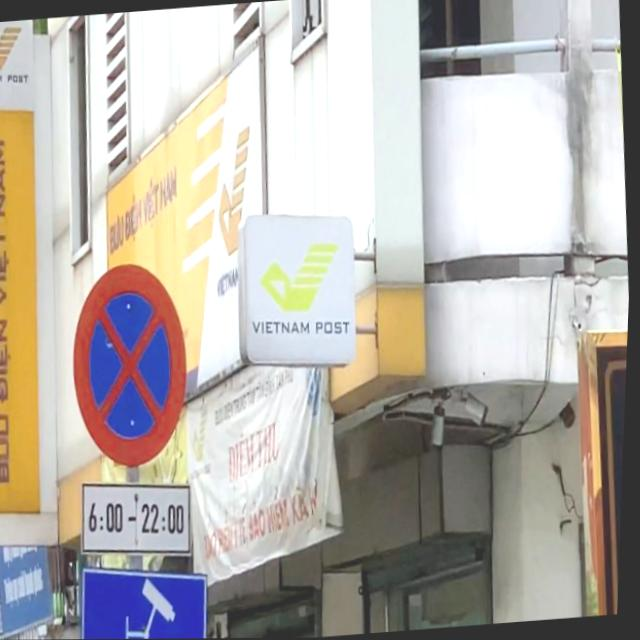Cam dung xe va do xe: (66, 259, 200, 472)
